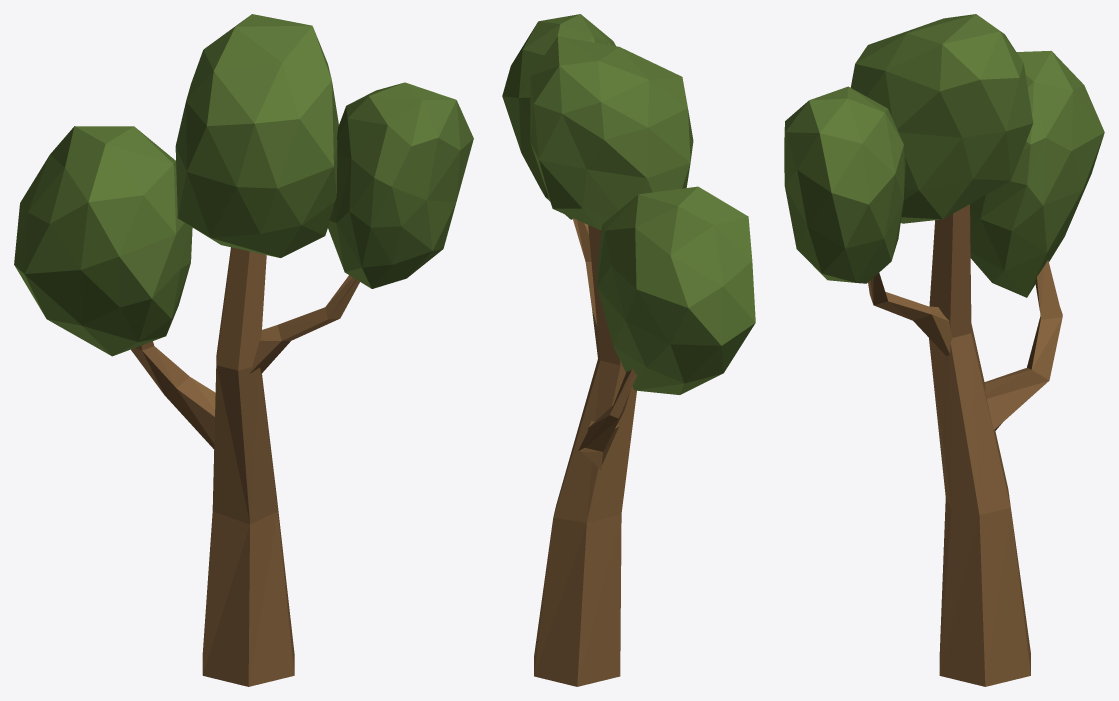
File: Tree_4_1.FBX
3 renders of one model, left to right at view 1: azimuth 30°, elevation 25°; view 2: azimuth 150°, elevation 25°; view 3: azimuth 270°, elevation 25°, orthographic. The views are drawn at different scales.
Parts seen in each view (by area): view 1: Tree_4_1; view 2: Tree_4_1; view 3: Tree_4_1.
Part boxes in pixels (x1,y1,x2,y2): Tree_4_1: (14, 14, 473, 686); Tree_4_1: (502, 14, 755, 686); Tree_4_1: (784, 14, 1104, 686).
Size of the model in its own units: 81.75 by 142 by 64.24.
Materials: 1 (1 with a texture image).
